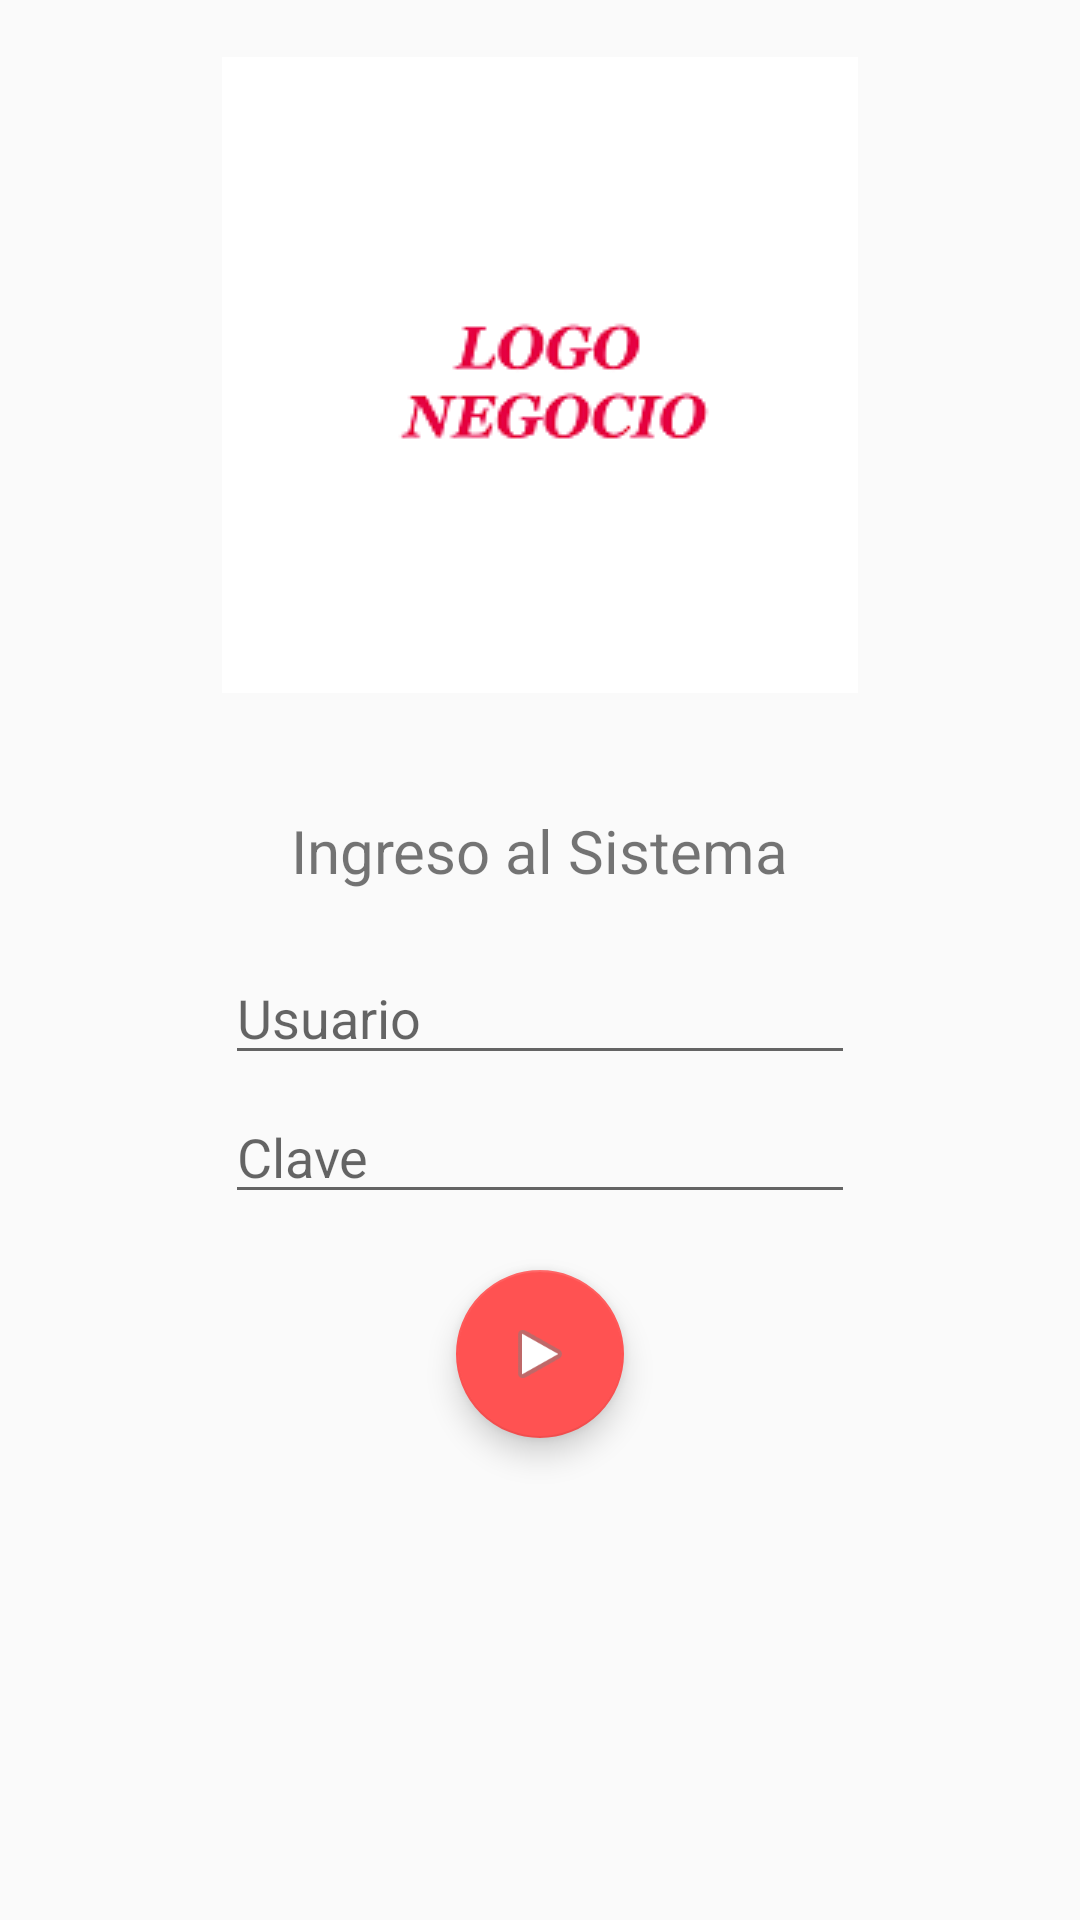

Where icons sit on this 1080 x 1920 app screen, as Rect(x1, y1, x2, y2):
play: Rect(456, 1270, 624, 1438)
